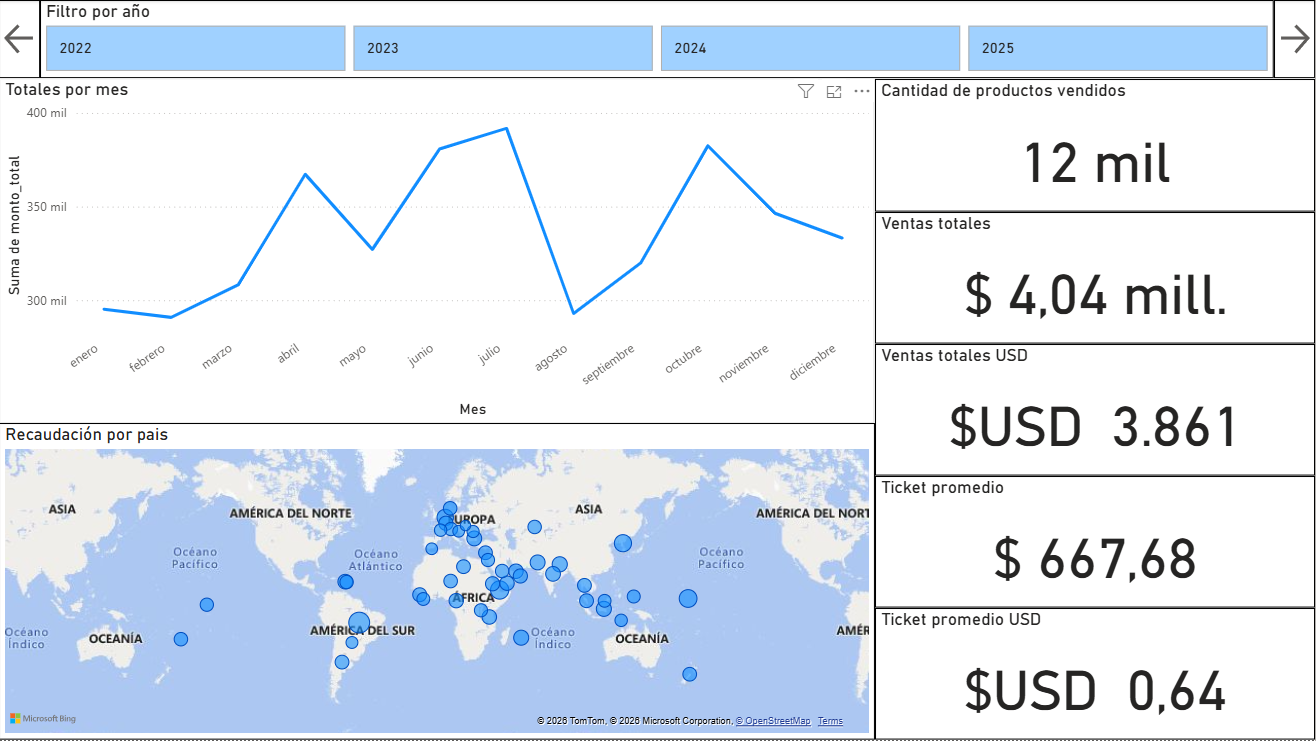

This screenshot's page, from the dashboard's own definition file:
{"tool":"powerbi","page":{"name":"Ventas","canvas":[1280,720],"ordinal":0},"visuals":[{"type":"advancedSlicerVisual","title":"Filtro por año","fields":{"Values":["Dim_Tiempo.anio"]},"box":[39.9,0,1200.2,75.9],"z":0},{"type":"actionButton","box":[0,0,39.9,75.9],"z":1000},{"type":"actionButton","box":[1240.1,0,39.9,75.9],"z":2000},{"type":"lineChart","title":"Totales por mes","fields":{"Y":["Sum(Hechos_FactVentas.monto_total)"],"Category":["Dim_Tiempo.id_fecha.Variación.Jerarquía de fechas.Mes"]},"box":[0,75.9,852,335.6],"z":3000},{"type":"card","title":"Ticket promedio","fields":{"Values":["Avg(Hechos_FactVentas.monto_total)"]},"box":[852,463,428,128.4],"z":4000},{"type":"card","title":"Cantidad de productos vendidos","fields":{"Values":["Sum(Hechos_FactVentas.cantidad)"]},"box":[852,76.8,428,129.4],"z":5000},{"type":"card","title":"Ventas totales","fields":{"Values":["Sum(Hechos_FactVentas.monto_total)"]},"box":[852,206.2,428,128.4],"z":6000},{"type":"map","title":"Recaudación por pais","fields":{"Category":["Dim_Clientes.pais"],"Size":["Sum(Hechos_FactVentas.monto_total)"]},"box":[0,411.4,852,308.3],"z":7000},{"type":"card","title":"Ventas totales USD","fields":{"Values":["Medidas.Total USD"]},"box":[852,334.6,428,128.4],"z":8000},{"type":"card","title":"Ticket promedio USD","fields":{"Values":["Medidas.Promedio USD"]},"box":[852,591.4,428,128.4],"z":9000}]}

Visuals, with their boxes in screenshot pixels (x1, y1, x2, y2), scaled from the page's 1280x720 canvas onto the 1316x741 screenshot:
"Filtro por año" advancedSlicerVisual: (41,0,1275,78)
actionButton: (0,0,41,78)
actionButton: (1275,0,1315,78)
"Totales por mes" lineChart: (0,78,876,424)
"Ticket promedio" card: (876,477,1315,609)
"Cantidad de productos vendidos" card: (876,79,1315,212)
"Ventas totales" card: (876,212,1315,344)
"Recaudación por pais" map: (0,423,876,740)
"Ventas totales USD" card: (876,344,1315,477)
"Ticket promedio USD" card: (876,609,1315,740)
